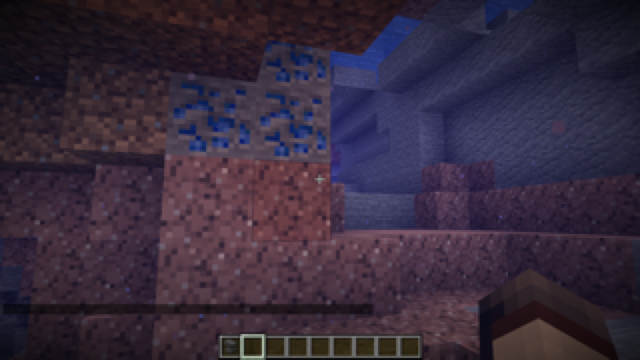lapis: (166, 48, 330, 154)
